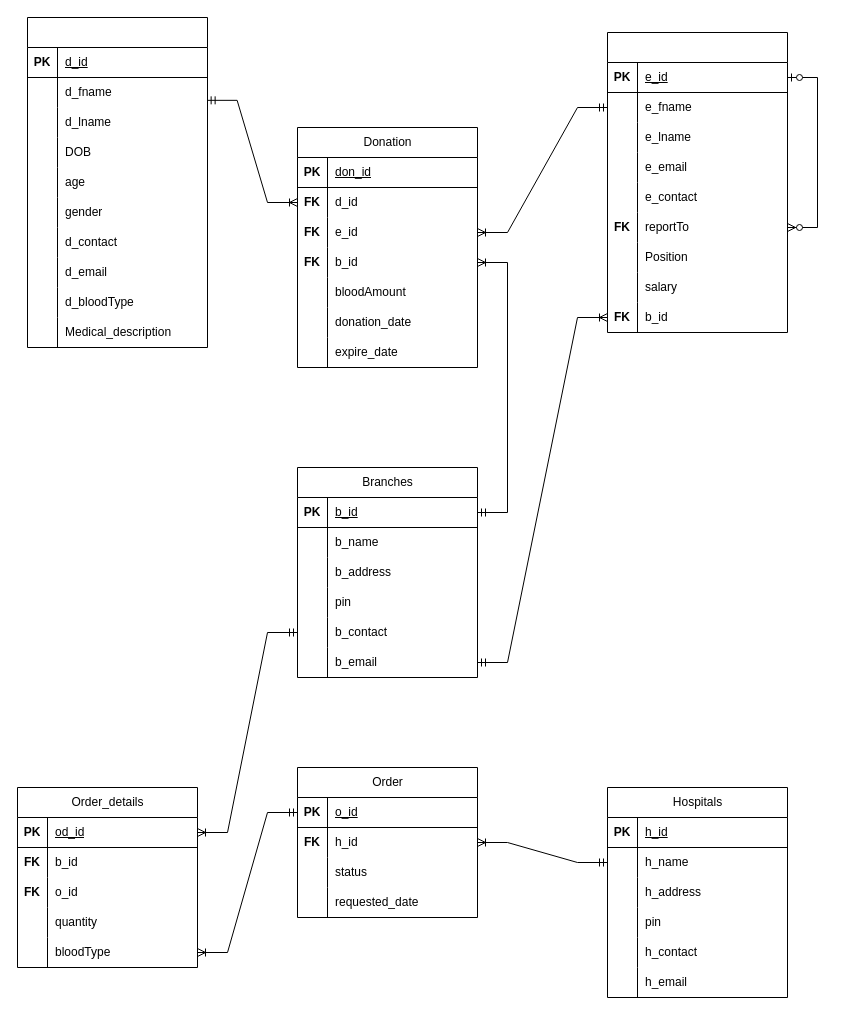
The diagram is 844 pixels wide and 1015 high, and some of its shapes have lost their labels. The shapes that lost their labels are listed below. From the top down, each one's box as (x1, y1, x2, y2) in pixels, then its label:
(26, 16, 208, 348): Donors
(606, 32, 788, 332): Employees
